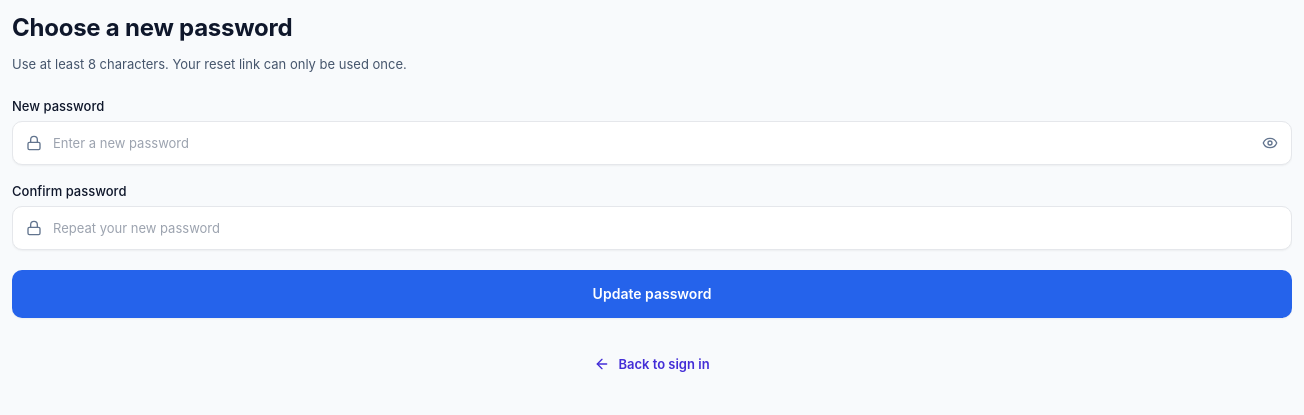
Test case: password recovery forms › blocks mismatched passwords
The width and height of the screenshot is (1304, 415).
Type "new-password" into the password field labelled "New password". click: point(652, 143)
box: [12,121,1292,165]
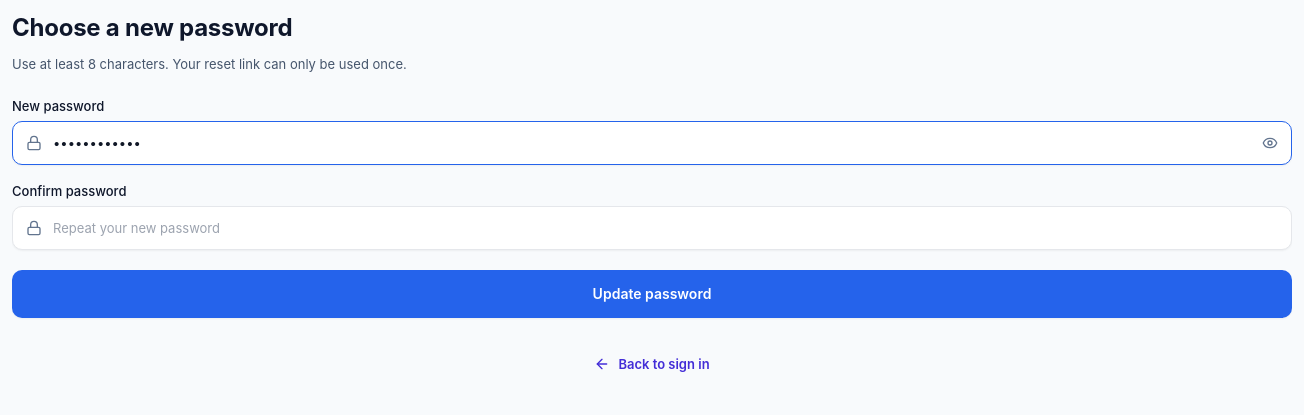
Type "different-password" into the password field labelled "Confirm password". click: point(652, 228)
box: [12,206,1292,250]
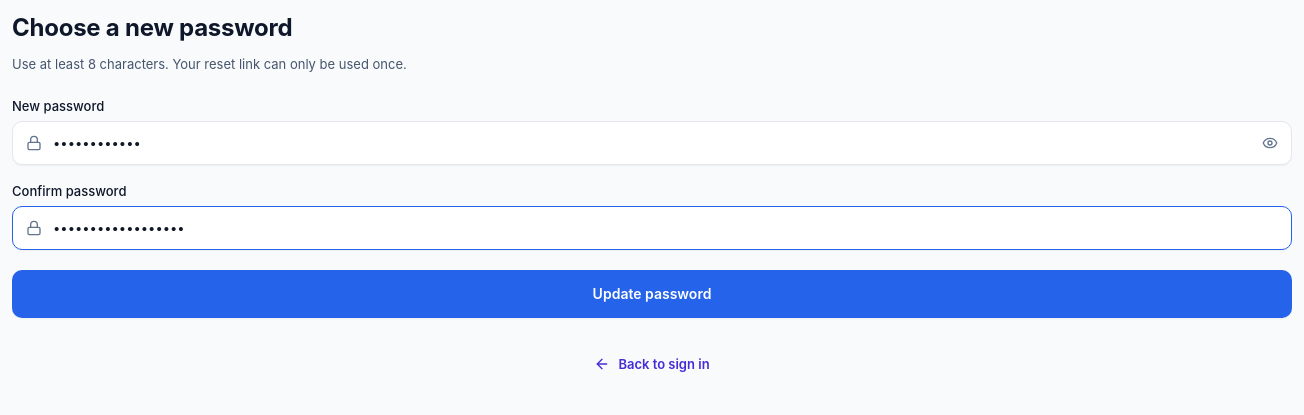
Click the button "Update password". click: point(652, 294)
box: [12,270,1292,318]
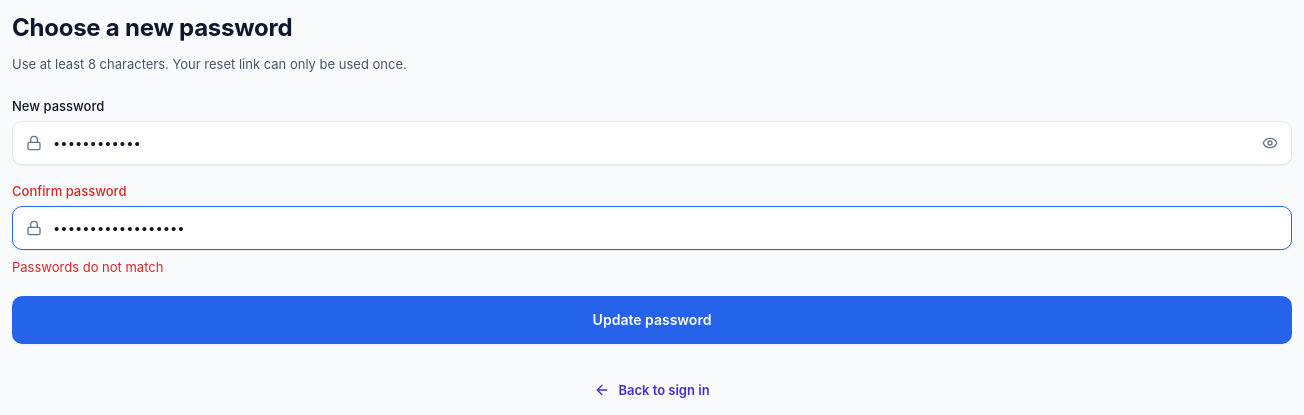
Expected: the text "Passwords do not match" is shown, [12,259,163,275]
